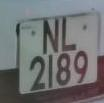1: (46, 52, 57, 92)
2: (27, 52, 49, 92)
8: (54, 51, 73, 89)
9: (72, 50, 90, 87)
L: (59, 13, 79, 55)
N: (40, 15, 61, 58)
